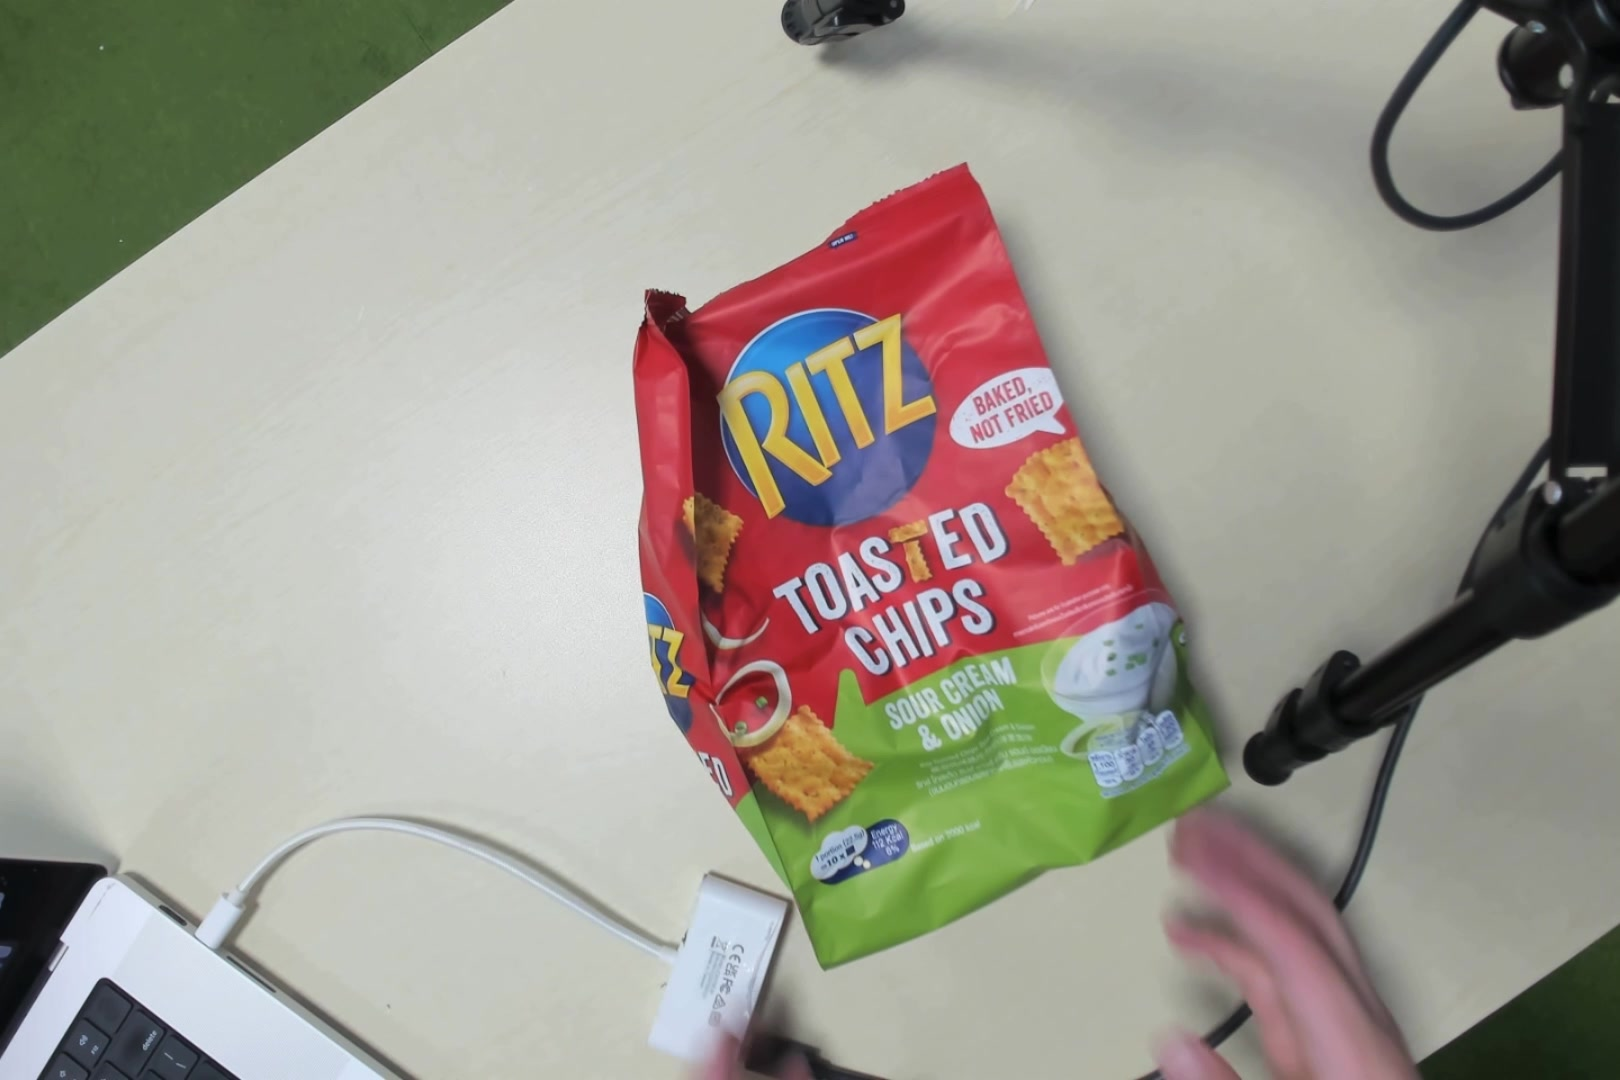BiscuitsCrackersCookies_200-299g_NonHalal_NonHealthy: (661, 233, 1176, 917)
